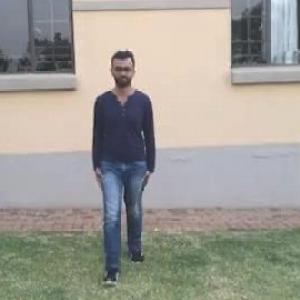follow: (81, 30, 161, 287)
